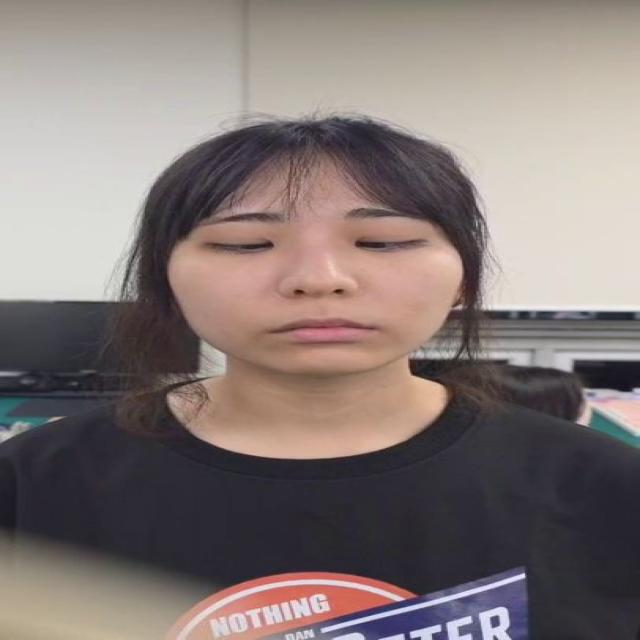eyes: (208, 234, 432, 256)
face: (162, 119, 470, 376)
iris_down: (236, 239, 272, 253), (358, 238, 388, 249)
